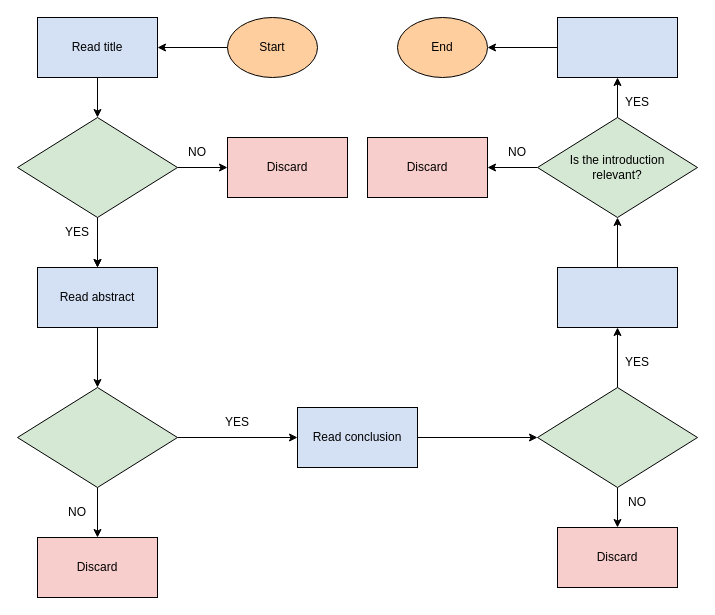
Some shapes in this 715 by 615 pixel diagram are drawn without their labels. The shapes that lost their labels are listed below. From the top down, each one's centre as x and y in pixels, then its label:
At point 617,47: "Save and read succesfully".
At point 97,167: "Is the title relevant?".
At point 617,297: "Read Introduction".
At point 97,437: "Is the abstract relevant?".
At point 617,437: "Is the conclusion relevant?".
